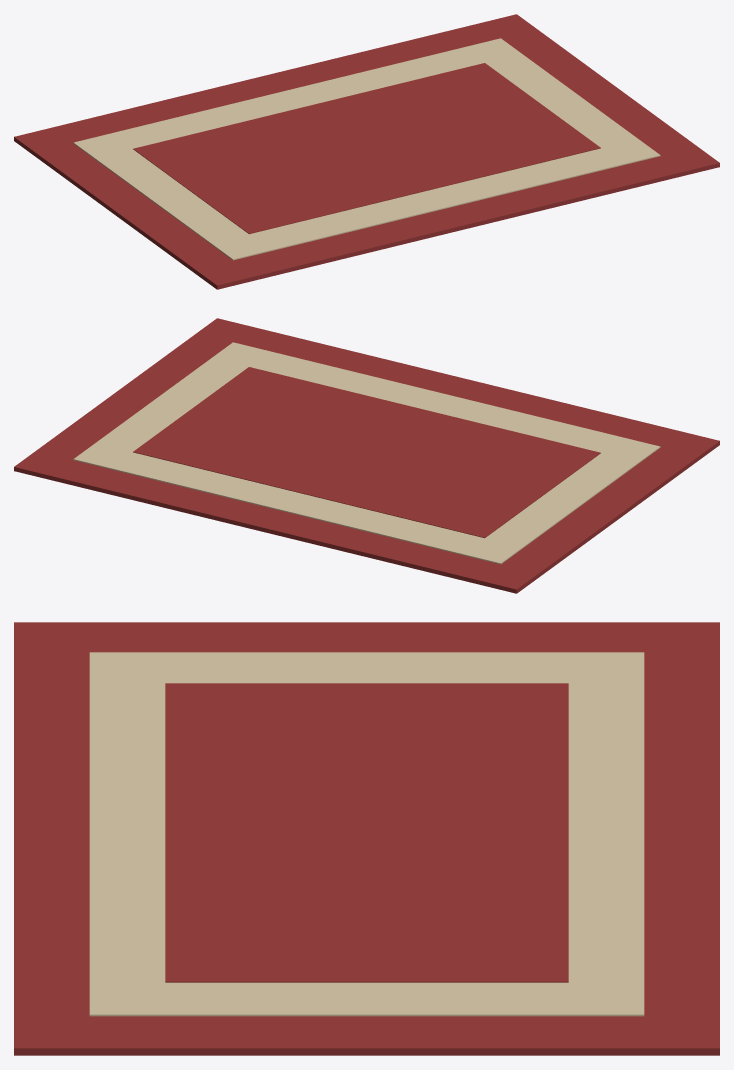
File: GH_Rug_01.glb
The picture shows the model from 3 angles, top to bottom: view 1: azimuth 30°, elevation 25°; view 2: azimuth 150°, elevation 25°; view 3: azimuth 270°, elevation 25°; orthographic projection. The views are drawn at different scales.
Visible parts, largest first — view 1: GH_Rug_01; view 2: GH_Rug_01; view 3: GH_Rug_01.
Boxes of the visible parts, x1,y1,x2,y2 form: GH_Rug_01: (14, 14, 719, 289); GH_Rug_01: (14, 318, 719, 593); GH_Rug_01: (14, 622, 719, 1055).
Size of the model in its own units: 2 by 0.022 by 1.4.
Materials: 1 (1 with a texture image).
